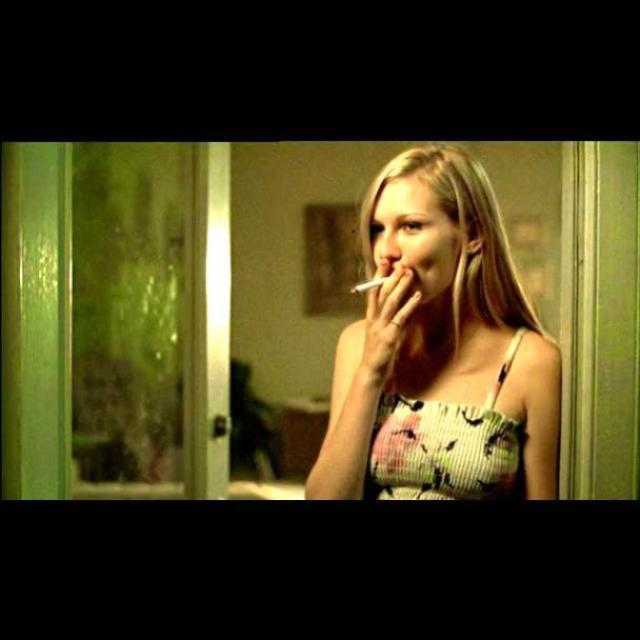rokok: (345, 277, 401, 297)
